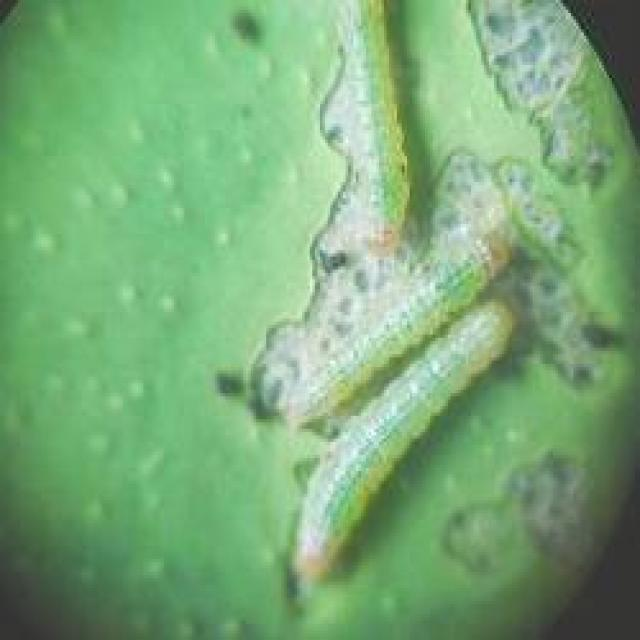BeetArmyWorm-Larva-: (290, 292, 519, 598), (274, 224, 520, 432)
